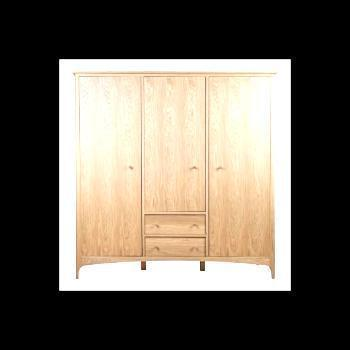Armario: (72, 69, 281, 279)
